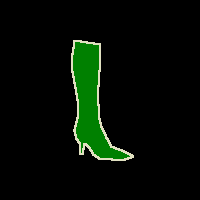shoe: (72, 40, 133, 160)
